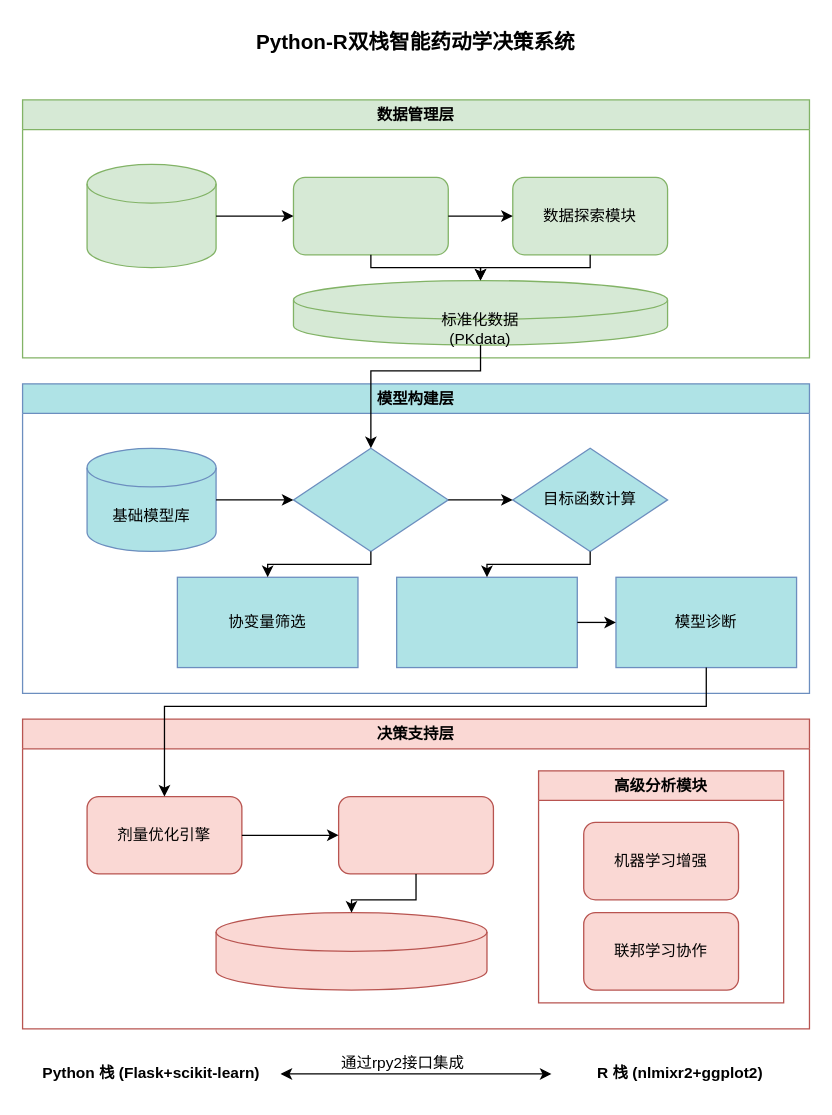
Image size: 832x1115. Some labels were removed from this diagram. Each missing label, with the centre of its shape:
"临床数据文件 (CSV/RDS)" goes at pixel 151 215.
"剂量推荐" goes at pixel 415 834.
"参数评估" goes at pixel 486 622.
"数据上传模块" goes at pixel 370 215.
"模型选择" goes at pixel 370 499.
"结果可视化" goes at pixel 351 950.
